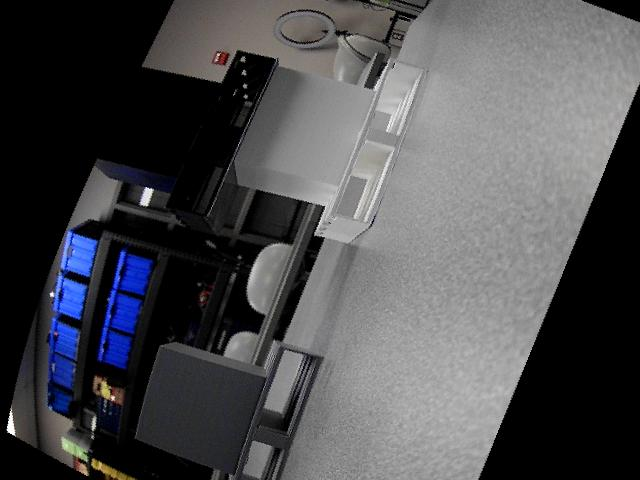black pallet: (91, 51, 284, 242)
grey pallet: (131, 339, 326, 480)
white pallet: (231, 54, 427, 247)
